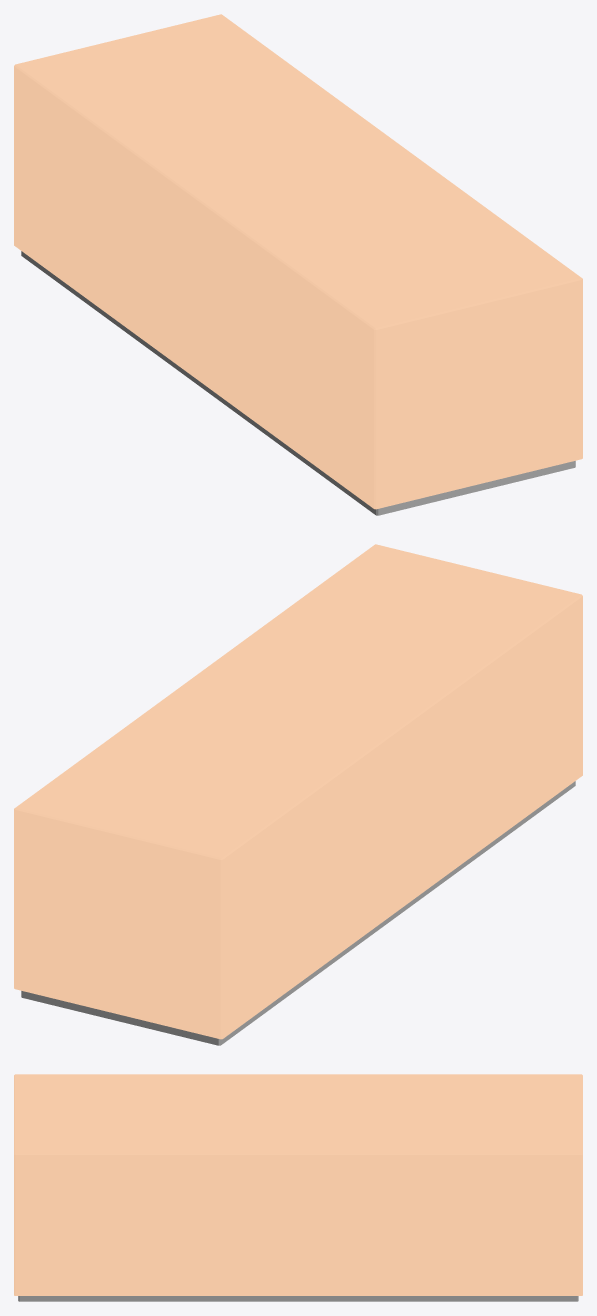
The model's file is NMS_Display_Box3_04.001.gltf.
3 views of the same model, one above another, from view 1: azimuth 30°, elevation 25°; view 2: azimuth 150°, elevation 25°; view 3: azimuth 270°, elevation 25° (orthographic). The views are drawn at different scales.
Visible parts, largest first — view 1: NMS_Display_Box3_04; view 2: NMS_Display_Box3_04; view 3: NMS_Display_Box3_04.
Boxes of the visible parts, x1,y1,x2,y2 form: NMS_Display_Box3_04: [14, 14, 582, 515]; NMS_Display_Box3_04: [14, 544, 582, 1045]; NMS_Display_Box3_04: [14, 1074, 582, 1301].
Size of what is drawn, in the model's own units: 1 by 0.87 by 3.
